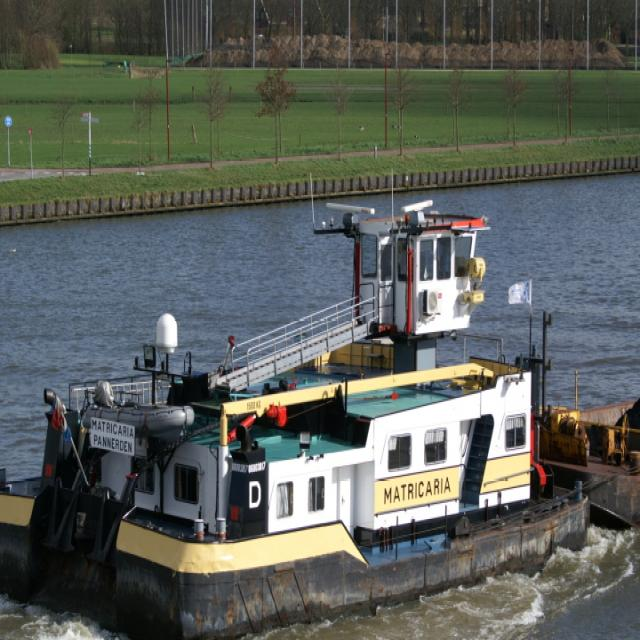tugboat: (1, 196, 595, 640)
